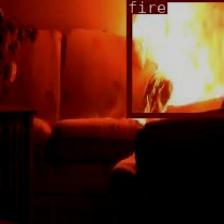fire: (125, 0, 224, 117)
